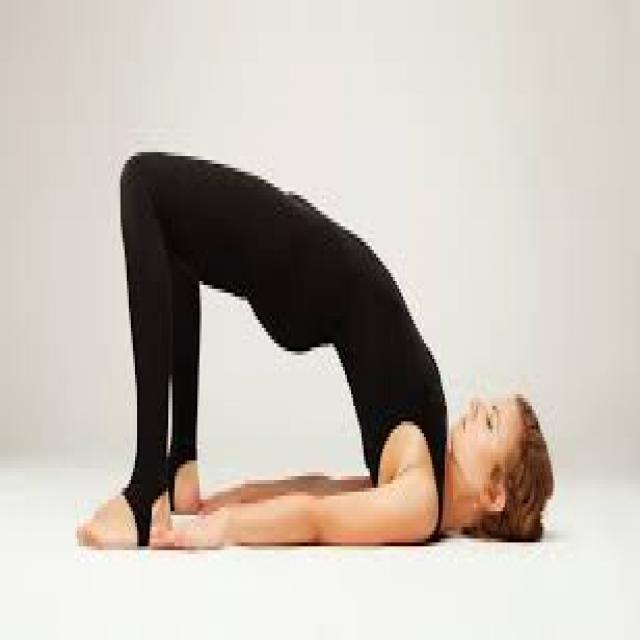yoga-pose bridge: (74, 147, 556, 555)
